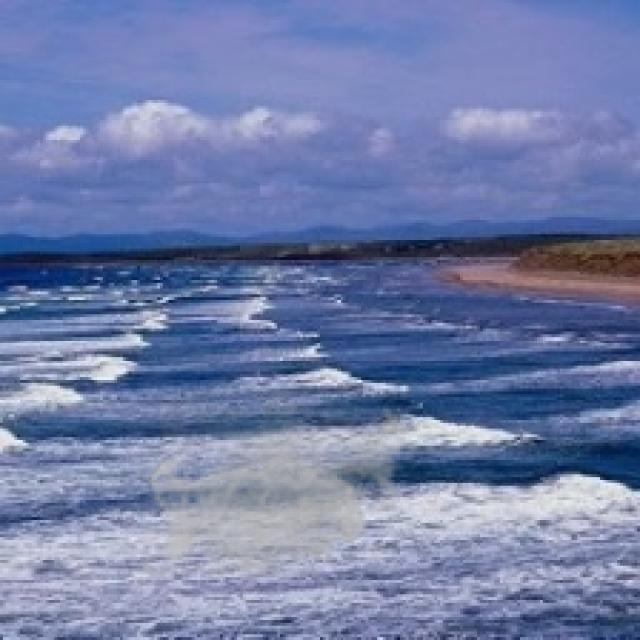smoke: (143, 388, 417, 588)
